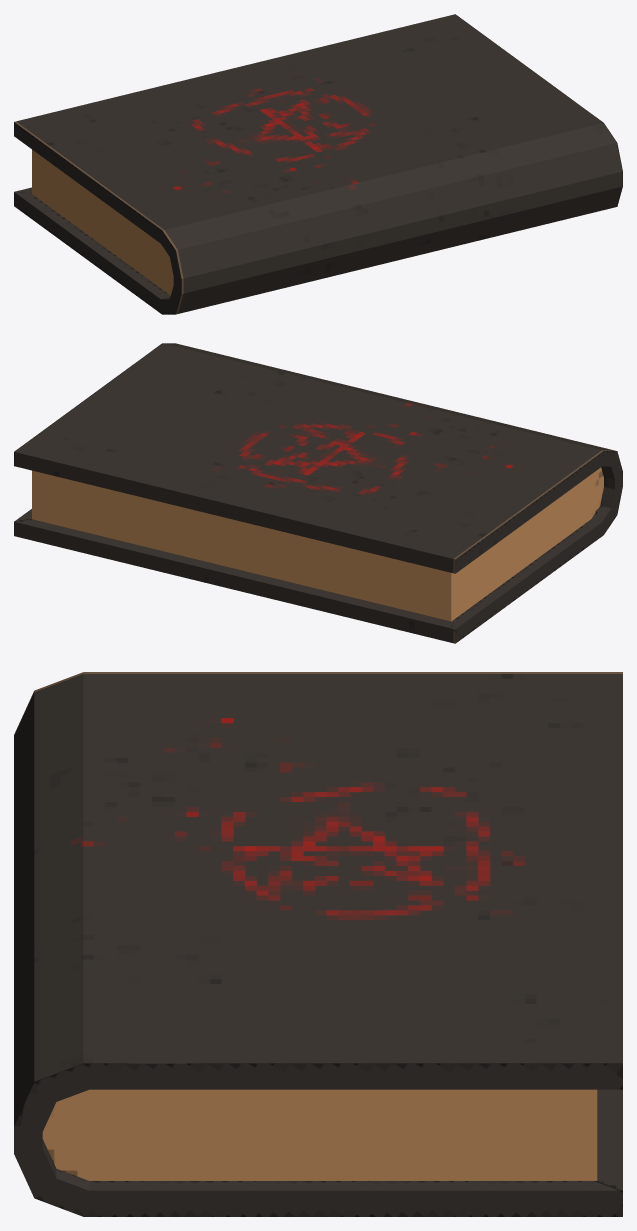
The model's file is Tome.fbx.
3 renders of one model, top to bottom at view 1: azimuth 30°, elevation 25°; view 2: azimuth 150°, elevation 25°; view 3: azimuth 270°, elevation 25°, orthographic. The views are drawn at different scales.
Visible parts, largest first — view 1: Tome; view 2: Tome; view 3: Tome.
Part boxes in pixels (<box>): Tome: <box>14,14,622,314</box>; Tome: <box>14,343,622,643</box>; Tome: <box>14,672,622,1216</box>.
Size of the model in its own units: 64.73 by 11.81 by 42.55.
Materials: 1 (1 with a texture image).
